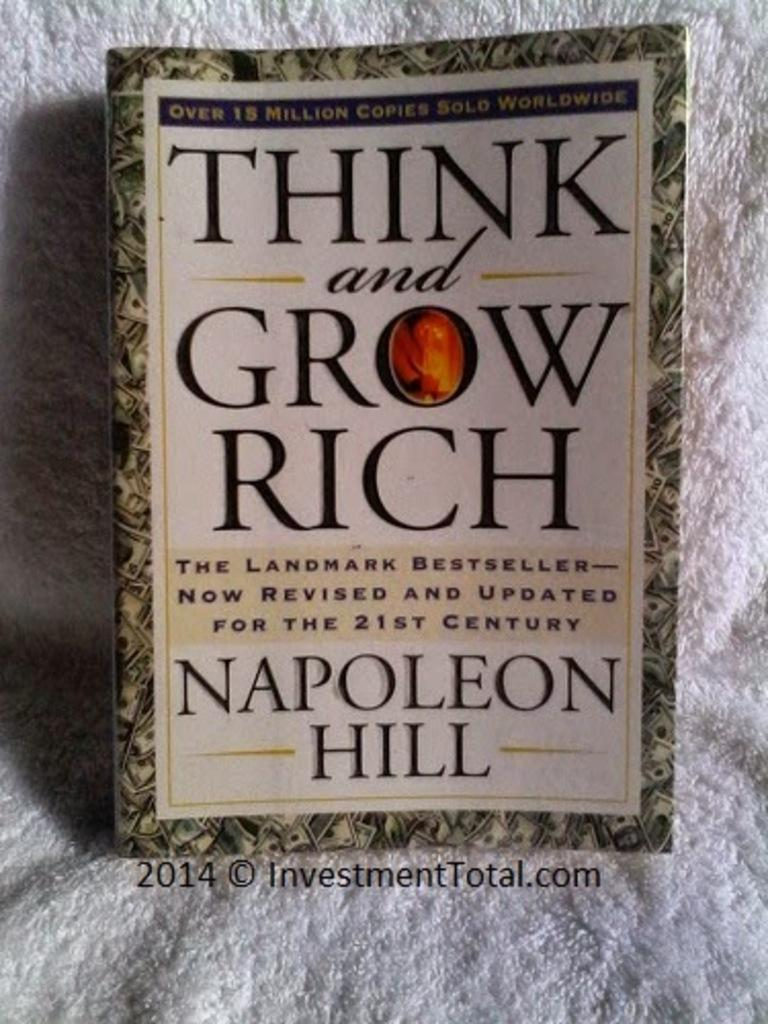book: (104, 23, 680, 856)
